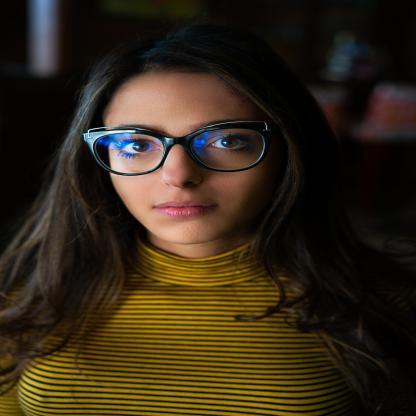Eye: (204, 134, 259, 153), (117, 139, 163, 160)
Mouth: (150, 199, 221, 217)
Nose: (160, 144, 204, 187)
